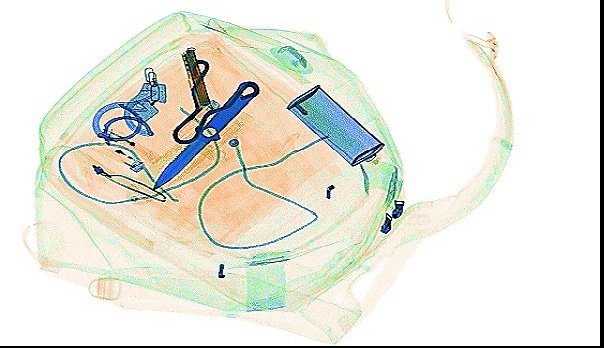handcuffs: (90, 63, 167, 147)
knife: (150, 78, 261, 192), (179, 44, 212, 110)
lighter: (94, 125, 163, 165), (87, 134, 146, 173), (170, 96, 220, 142)
slingshot: (170, 56, 260, 144)
zippooil: (284, 82, 387, 169)
